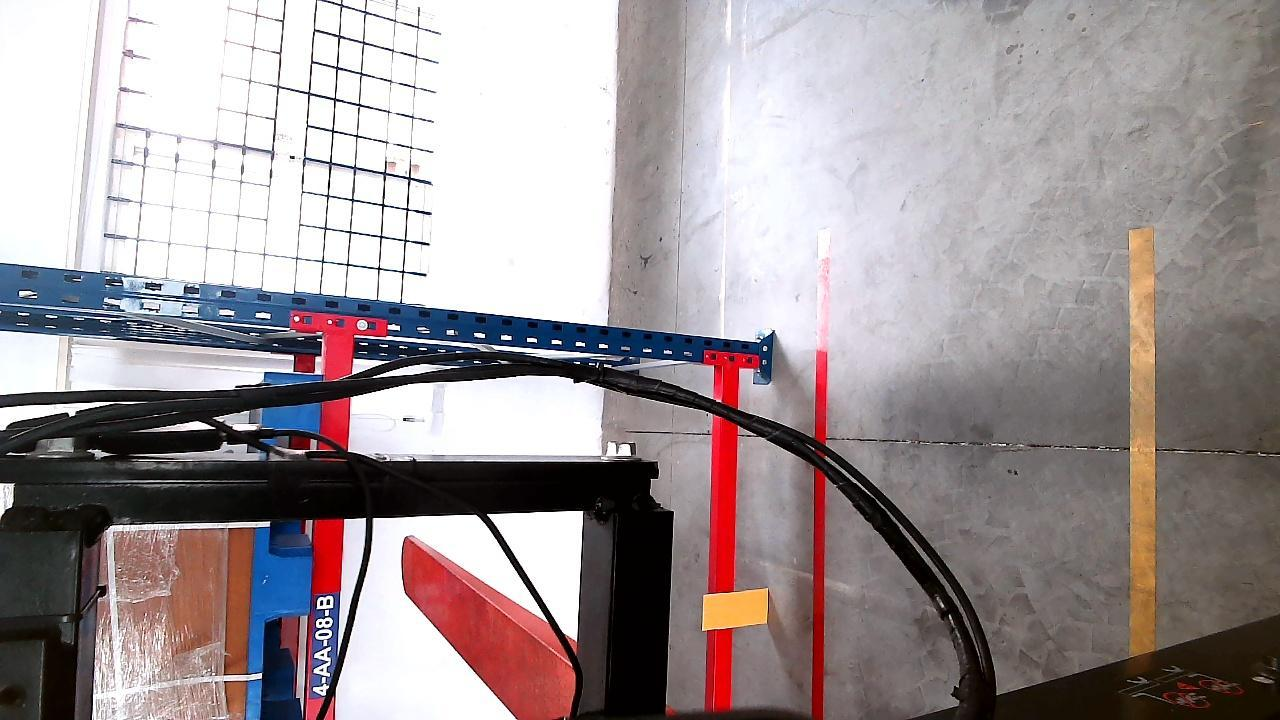red_line: (812, 227, 831, 720)
yellow_line: (1130, 222, 1159, 662)
